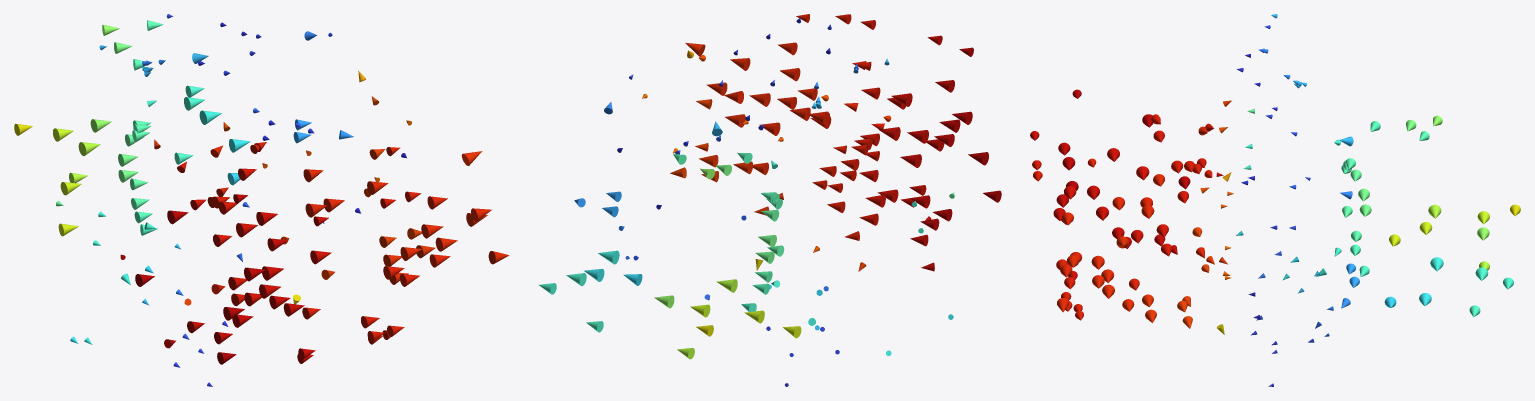
Rendered from LineasCorrienteH2-O2_mh2-2.70_V-0.7.glb.
3 views of the same model, side by side, from view 1: azimuth 30°, elevation 25°; view 2: azimuth 150°, elevation 25°; view 3: azimuth 270°, elevation 25° (orthographic). The views are drawn at different scales.
Size of the model in its own units: 0.00092 by 0.000954 by 0.00124.
Materials: 2 (2 with a texture image).
